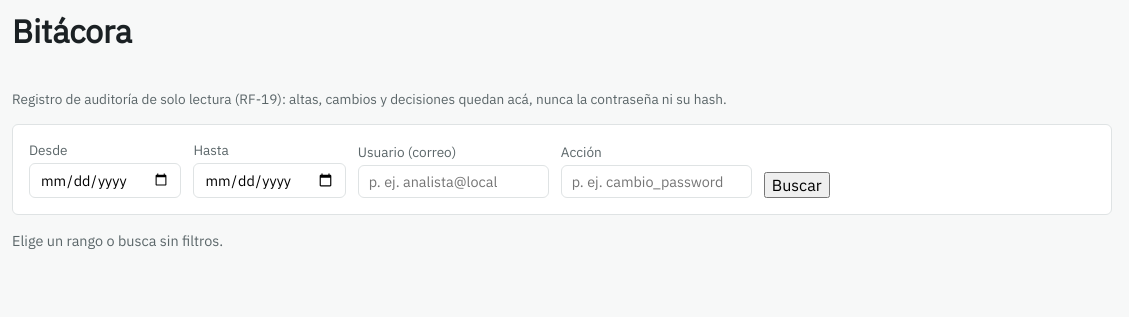
Scenario: Bitacora › muestra un error si la búsqueda falla
Click the button "Buscar". click: (797, 185)
box: [764, 172, 830, 198]
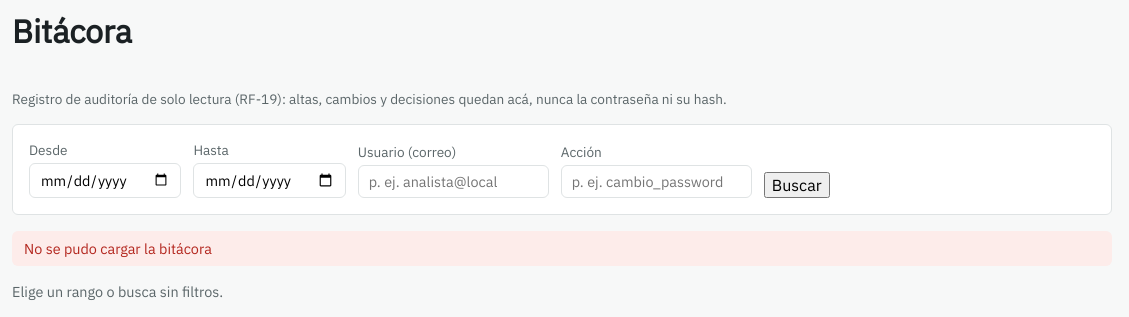
Result: the text "No se pudo cargar la bitácora" is shown at [12, 231, 1112, 266]
